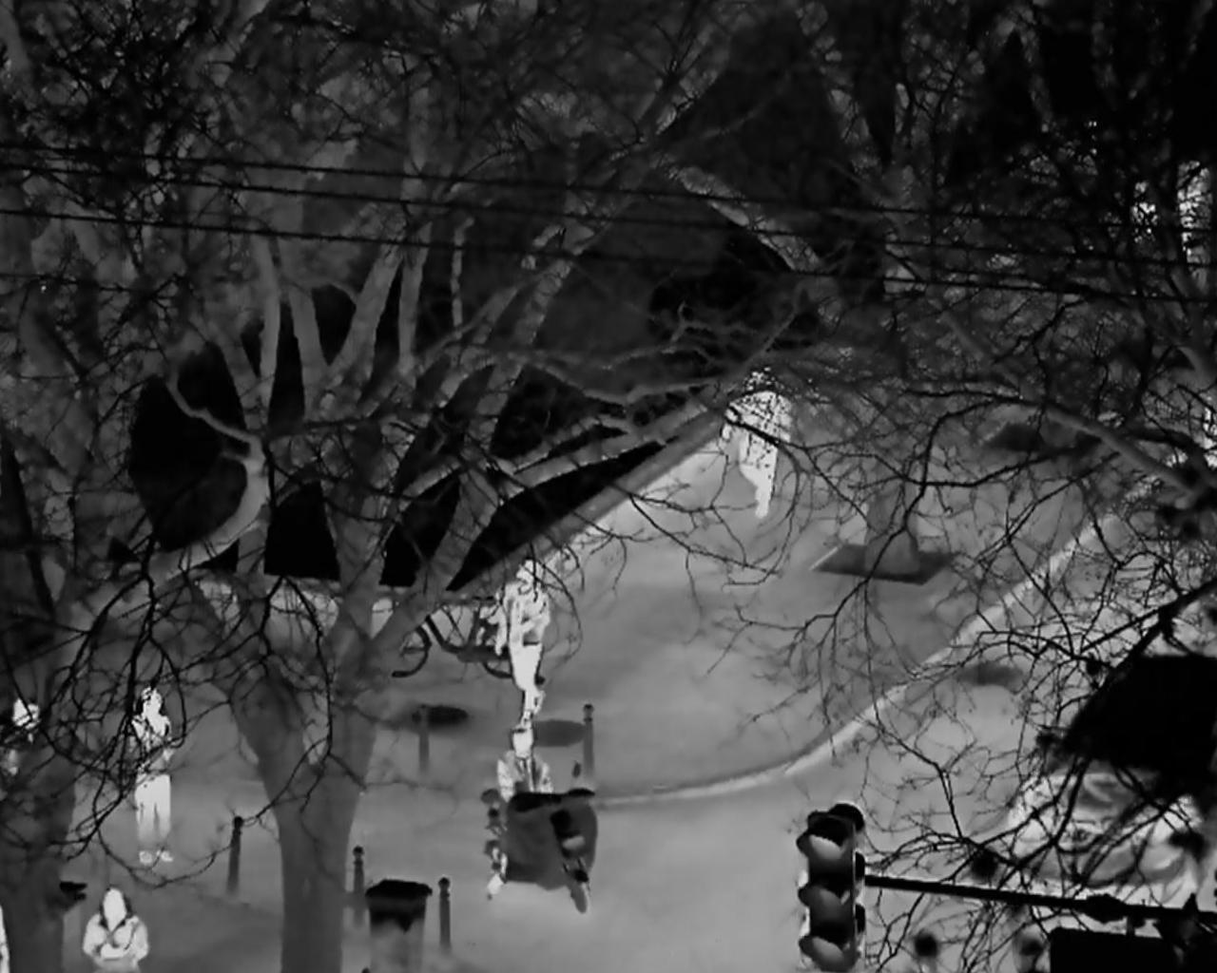person: (486, 723, 554, 897), (713, 389, 791, 518), (493, 560, 552, 717), (126, 687, 177, 867), (81, 886, 148, 973)
